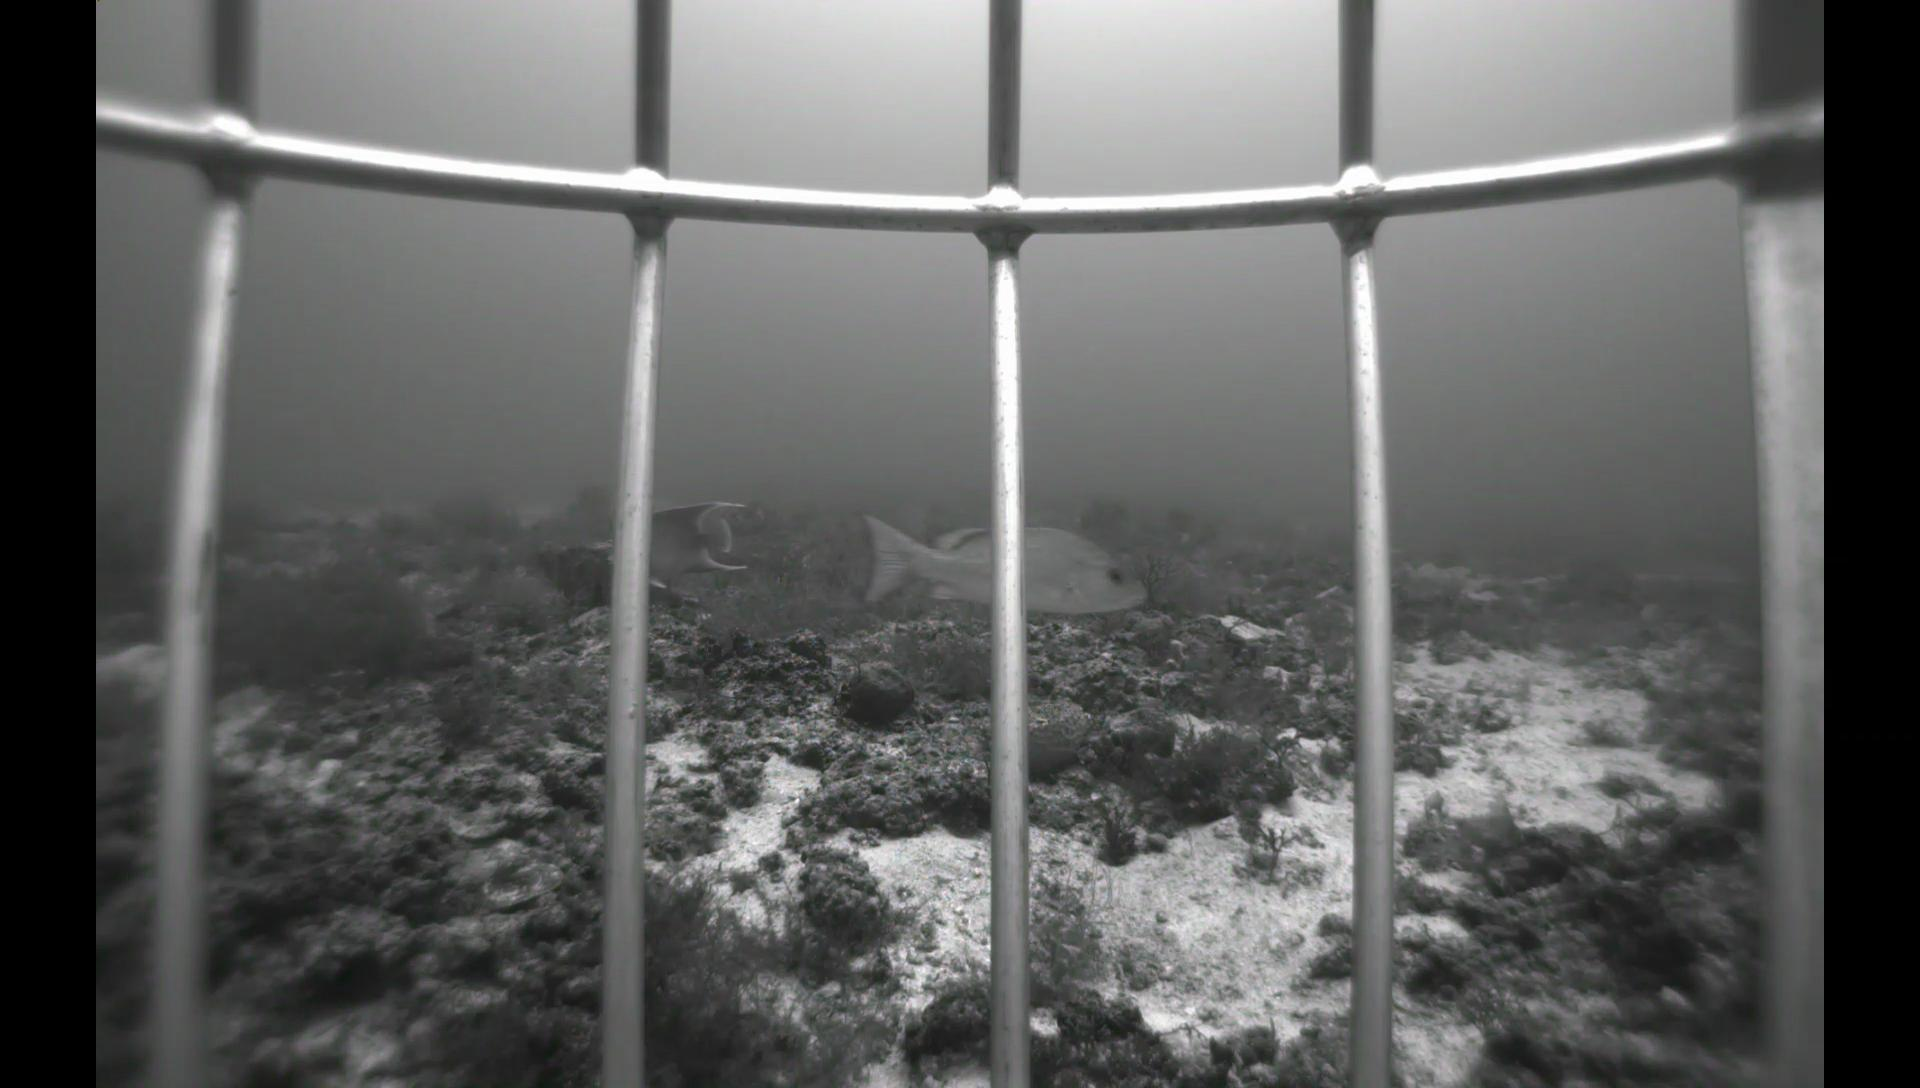HOLACANTHUSBERMUDENSIS-170290102: (603, 497, 760, 600)
LUTJANUSGRISEUS-170151109: (845, 499, 1156, 626)
